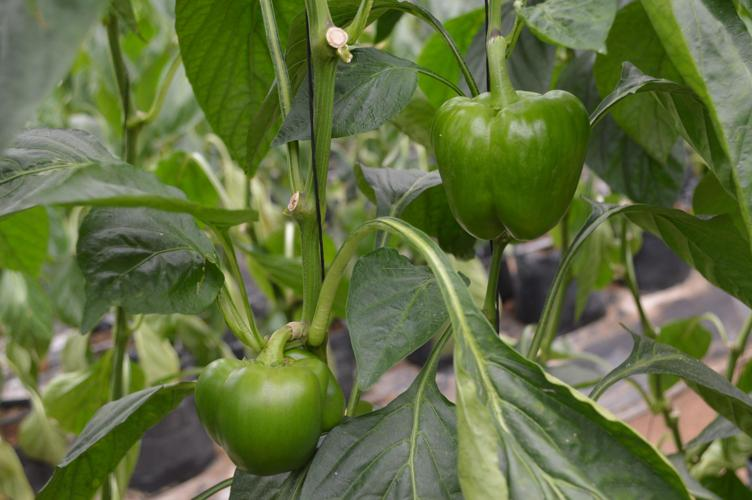BellPepper: (432, 87, 591, 241), (195, 352, 345, 472)
